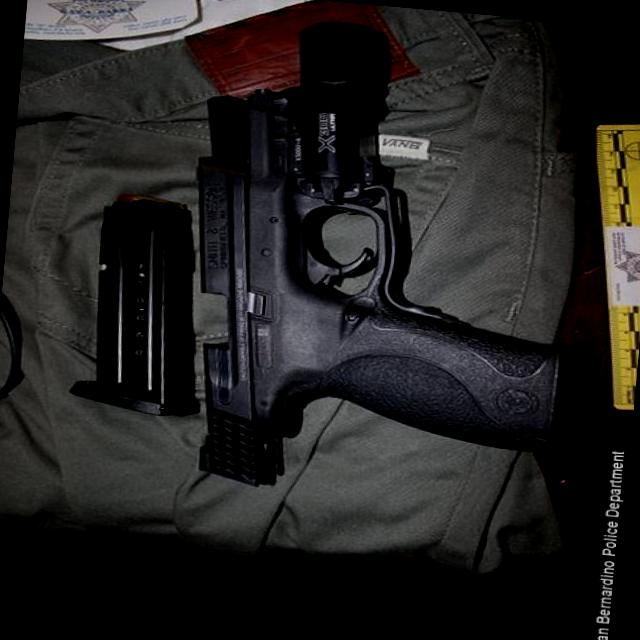handgun: (174, 12, 597, 506)
